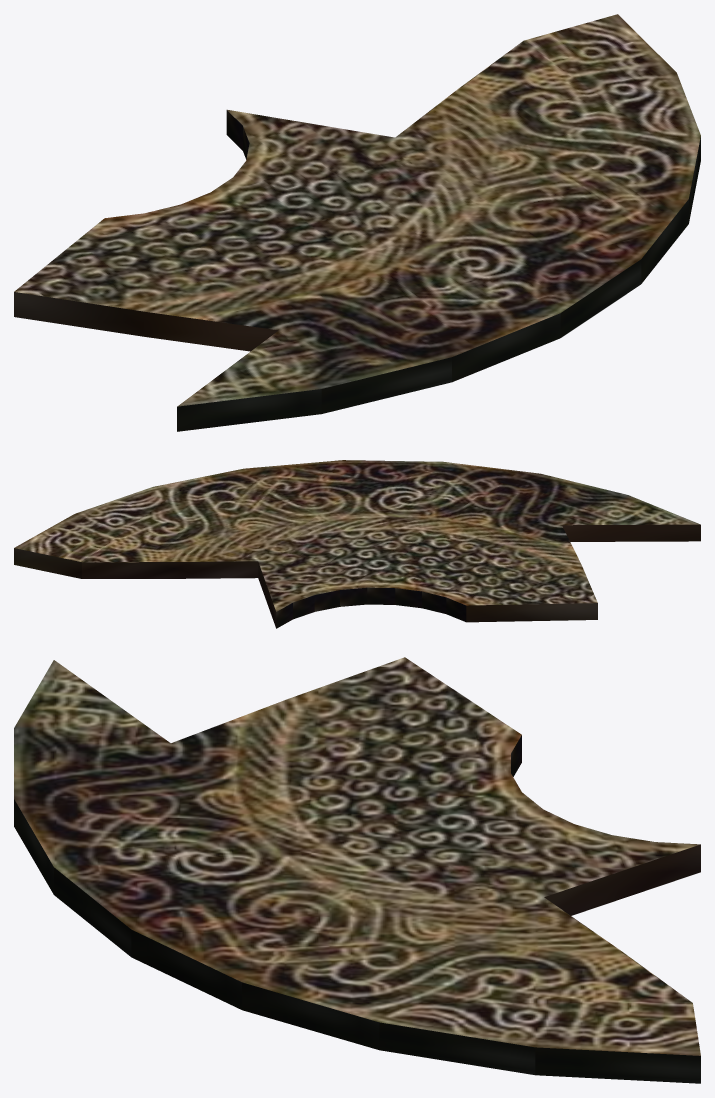
File: 汉代玉璧碎片1.FBX
3 renders of one model, top to bottom at view 1: azimuth 30°, elevation 25°; view 2: azimuth 150°, elevation 25°; view 3: azimuth 270°, elevation 25°, orthographic. The views are drawn at different scales.
Visible parts, largest first — view 1: 对象001; view 2: 对象001; view 3: 对象001.
Part boxes in pixels (x1,y1,x2,y2): 对象001: (14, 14, 700, 431); 对象001: (14, 460, 700, 628); 对象001: (14, 657, 700, 1083).
Bounding box in the file's own units: 40.44 × 1.32 × 29.45.
